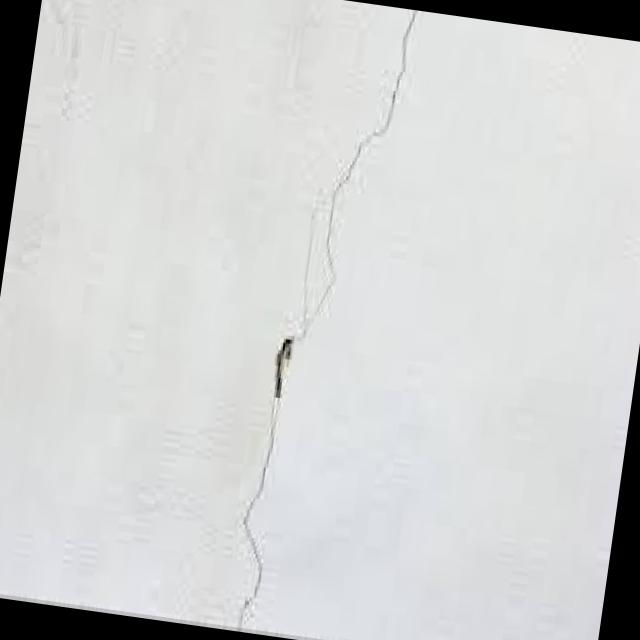crack: (223, 0, 412, 639)
